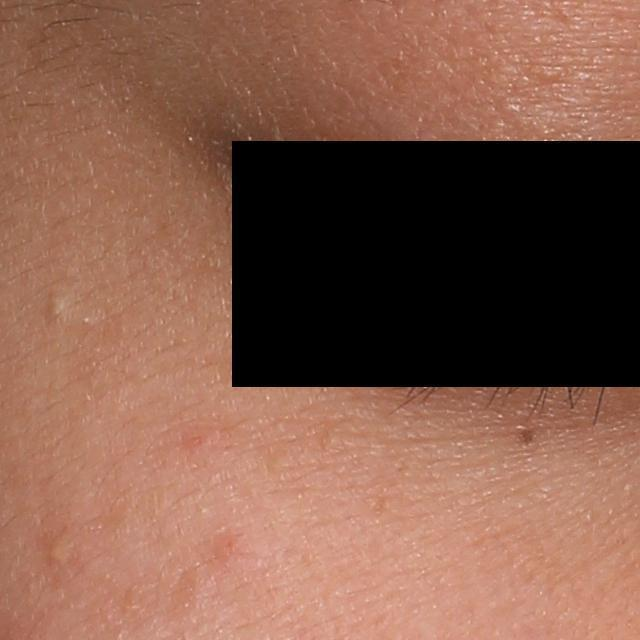comedo: (40, 530, 76, 569), (45, 287, 74, 322)
nevus: (516, 427, 537, 448)
